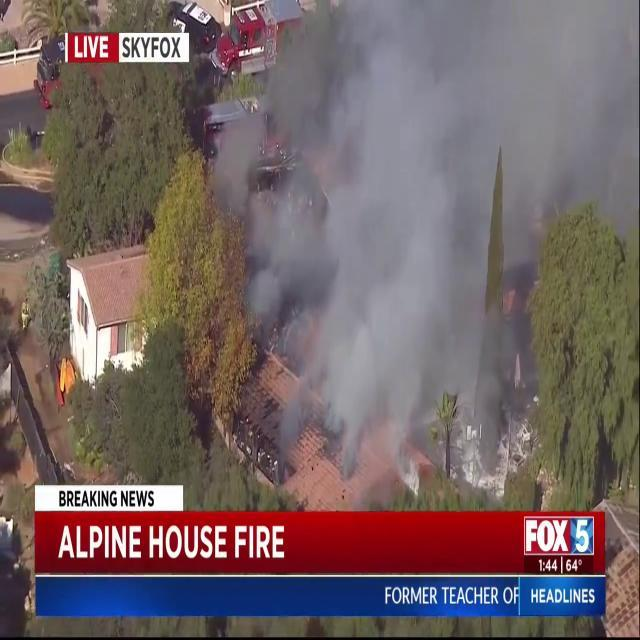Smoke: (230, 1, 512, 507), (285, 0, 640, 265)
